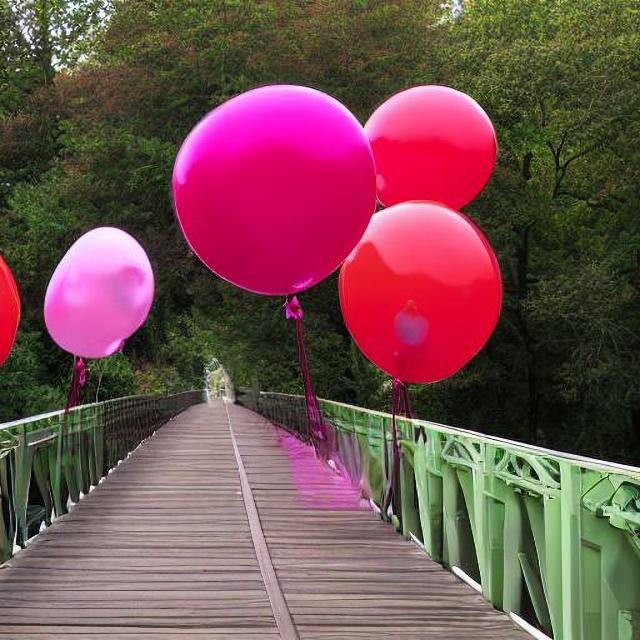balloon: (160, 80, 381, 328), (332, 202, 507, 396), (365, 74, 501, 202), (40, 220, 155, 362)
